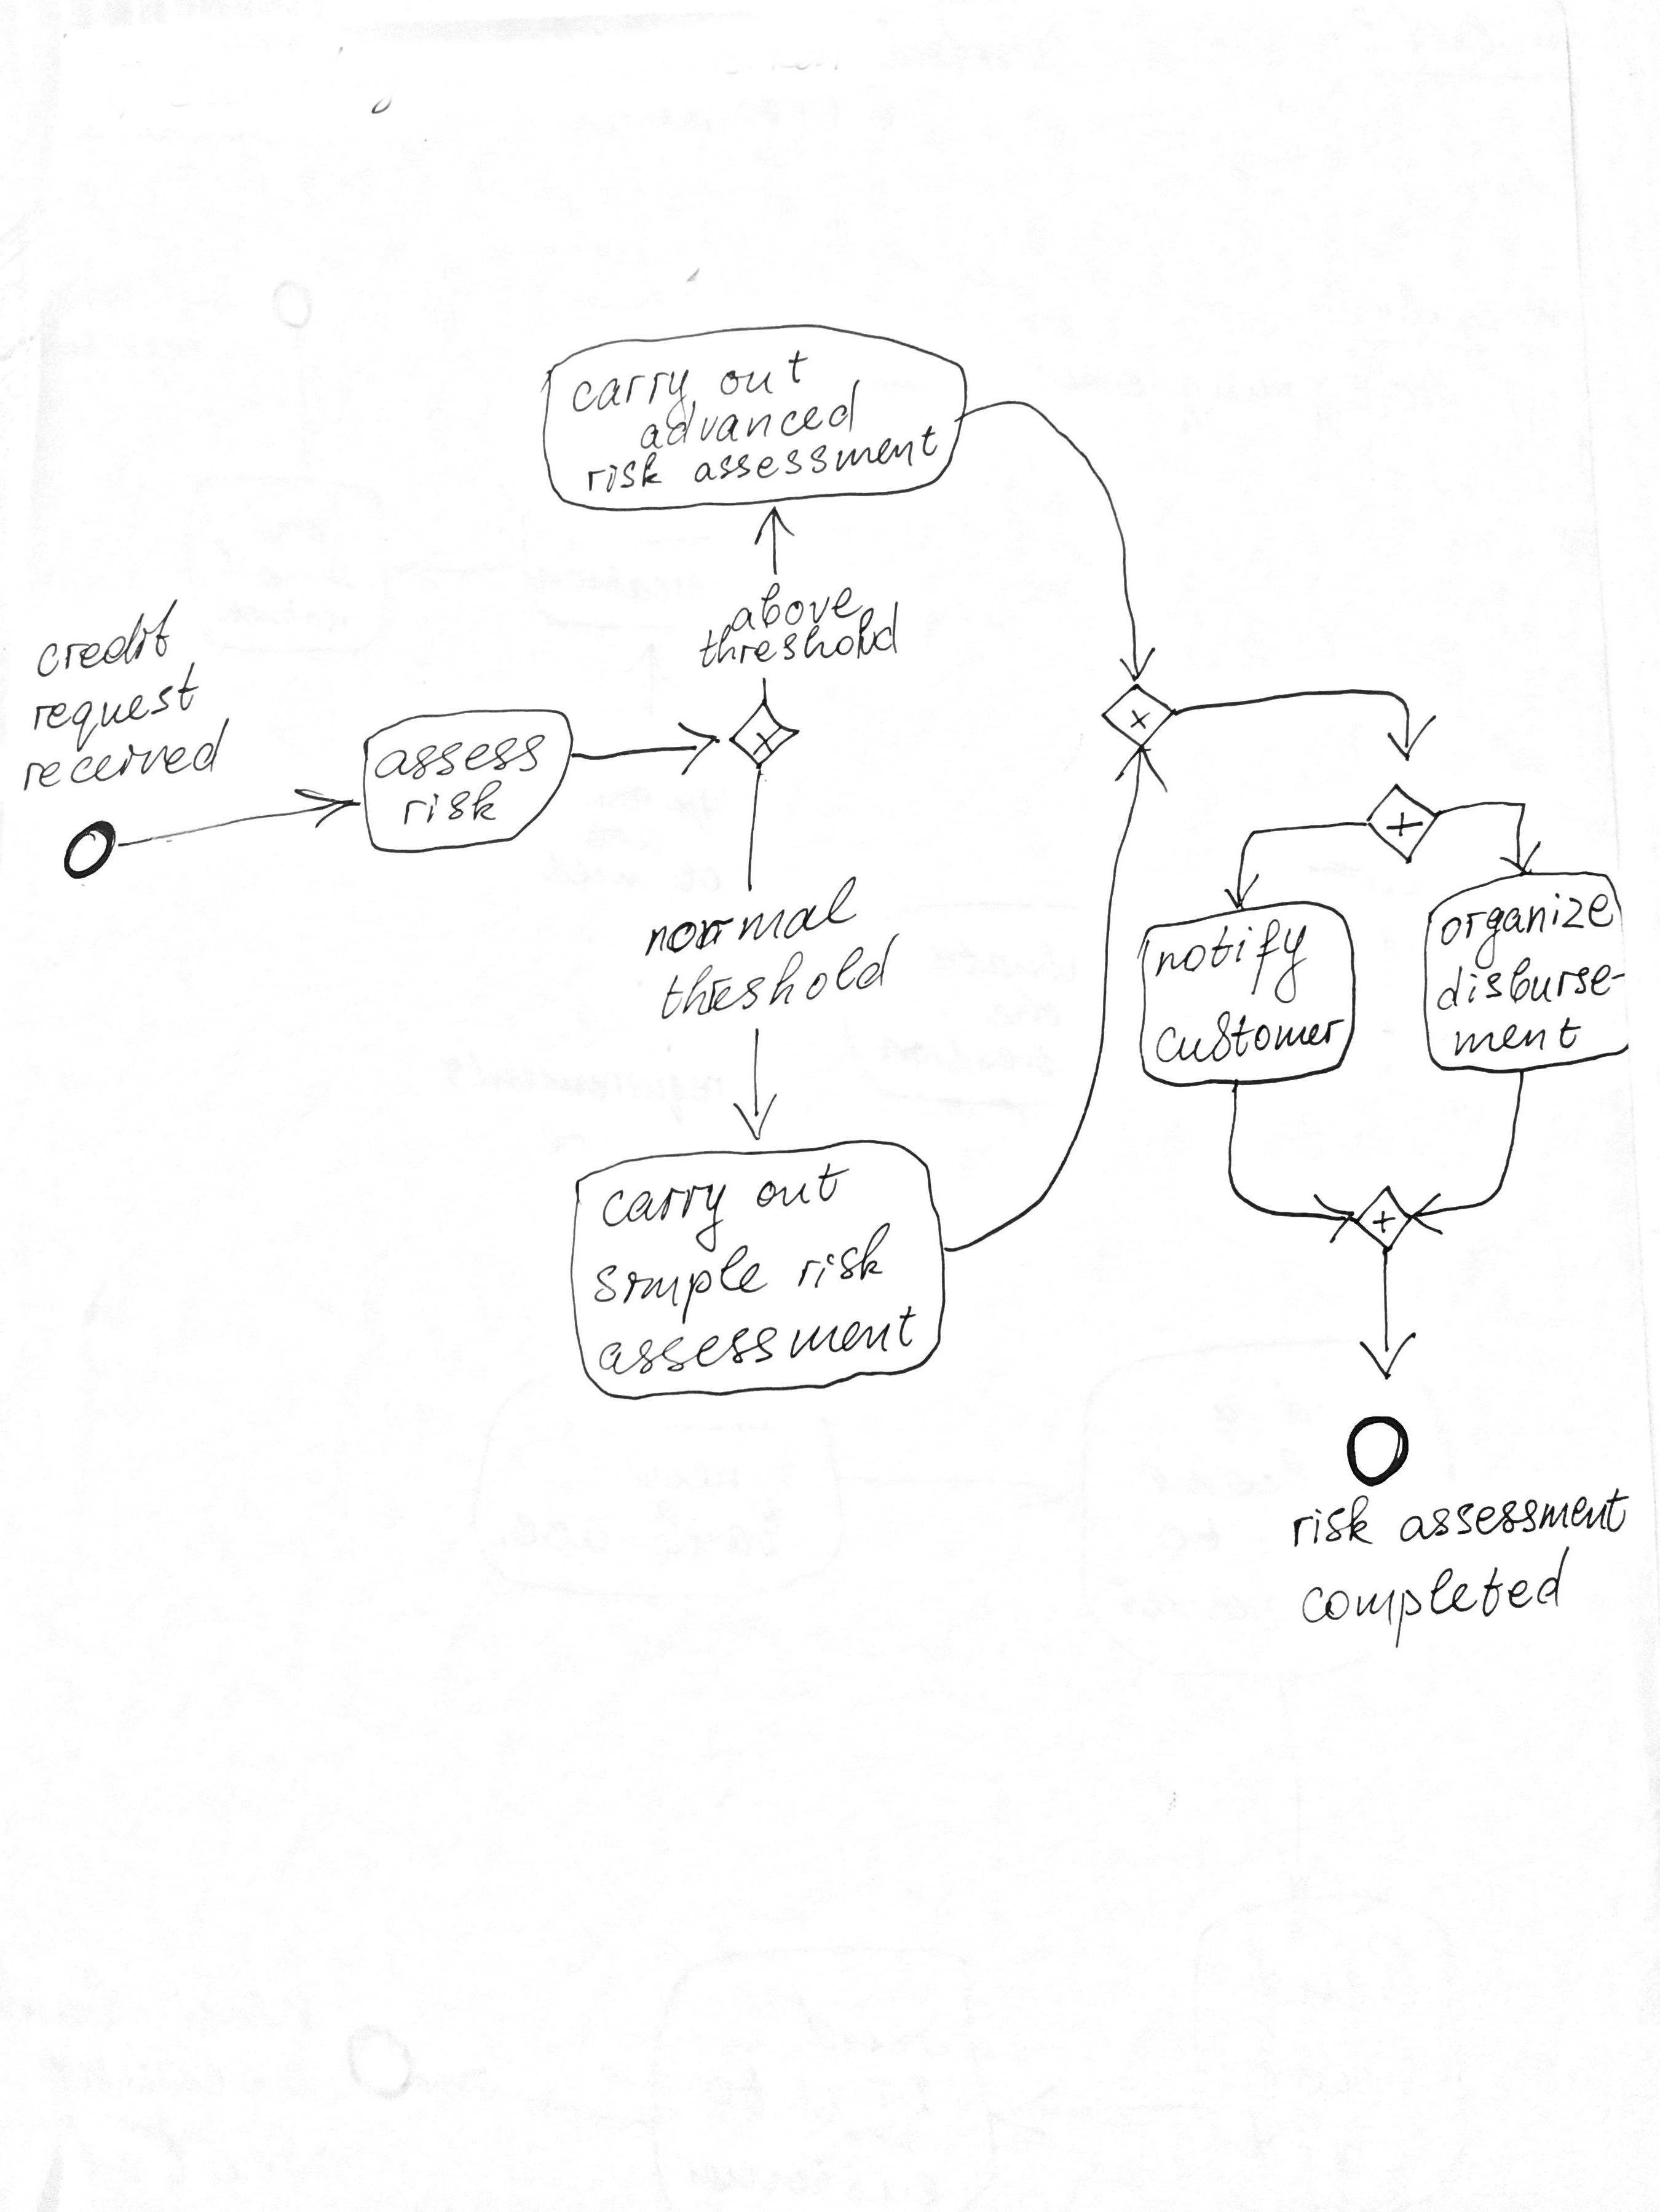above: (727, 580, 867, 634)
advanced: (636, 377, 863, 453)
assess: (370, 730, 551, 784)
assessment: (593, 1302, 921, 1381), (691, 424, 940, 486), (1395, 1485, 1634, 1548)
carry: (598, 1178, 731, 1257), (570, 366, 692, 432)
completed: (1297, 1543, 1576, 1652)
credit: (31, 594, 181, 682)
customer: (1151, 1008, 1348, 1069)
disburse-: (1433, 952, 1629, 1016)
ment: (1449, 1013, 1585, 1060)
normal: (640, 872, 861, 960)
notify: (1151, 915, 1311, 1008)
organize: (1437, 889, 1616, 974)
out: (753, 1157, 854, 1211), (717, 347, 811, 399)
received: (19, 715, 232, 795)
request: (30, 657, 202, 755)
risk: (792, 1218, 895, 1293), (399, 776, 506, 830), (1289, 1490, 1378, 1555), (584, 448, 666, 497)
simple: (589, 1243, 772, 1330)
threshold: (654, 929, 903, 1028)
thresshold: (696, 598, 901, 673)
